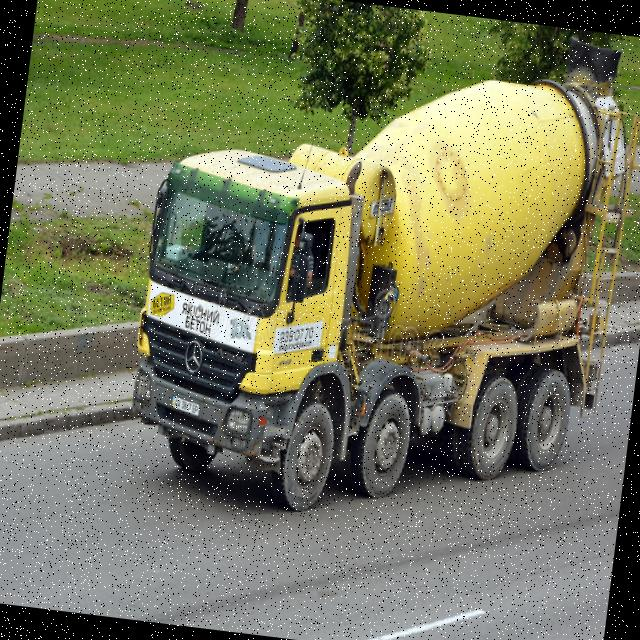Mixer Truck: (119, 0, 640, 547)
